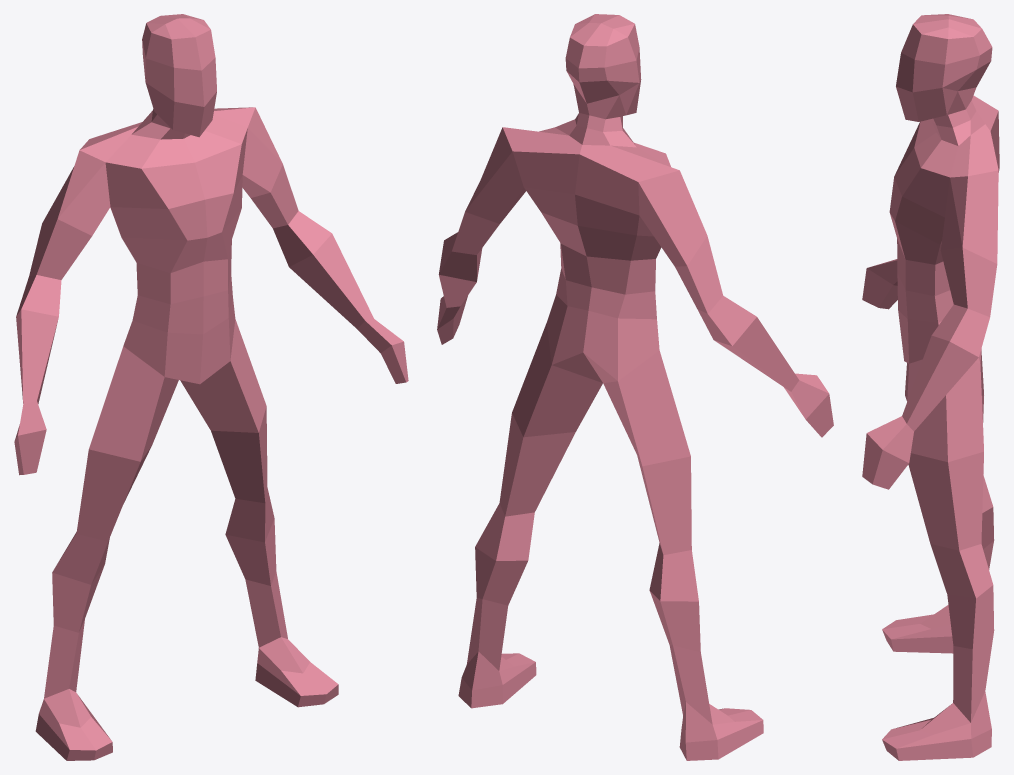
The model's file is LowPolySuperHeroRed.fbx.
The picture shows the model from 3 angles, left to right: view 1: azimuth 30°, elevation 25°; view 2: azimuth 150°, elevation 25°; view 3: azimuth 270°, elevation 25°; orthographic projection. The views are drawn at different scales.
Parts seen in each view (by area): view 1: BASE_Low Poly Man; view 2: BASE_Low Poly Man; view 3: BASE_Low Poly Man.
Boxes of the visible parts, bbox=[...] form: BASE_Low Poly Man: bbox=[14, 14, 408, 760]; BASE_Low Poly Man: bbox=[437, 14, 833, 760]; BASE_Low Poly Man: bbox=[862, 14, 999, 760].
Bounding box in the file's own units: 336 × 575 × 106.
